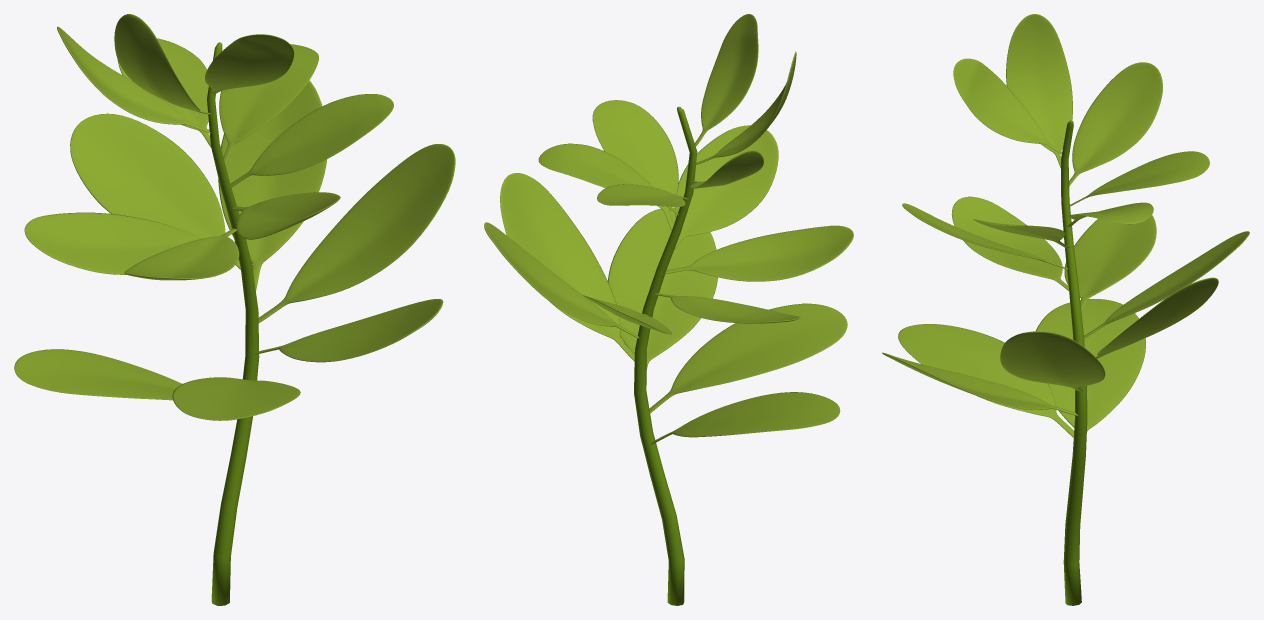
The model's file is Plant_Jungle.fbx.
3 views of the same model, side by side, from view 1: azimuth 30°, elevation 25°; view 2: azimuth 150°, elevation 25°; view 3: azimuth 270°, elevation 25° (orthographic). The views are drawn at different scales.
Visible parts, largest first — view 1: Plant; view 2: Plant; view 3: Plant.
Part boxes in pixels (left/top/right/bottom): Plant: left=14, top=14, right=455, bottom=605; Plant: left=484, top=14, right=853, bottom=605; Plant: left=882, top=14, right=1249, bottom=605.
Bounding box in the file's own units: 312 × 472 × 290.
